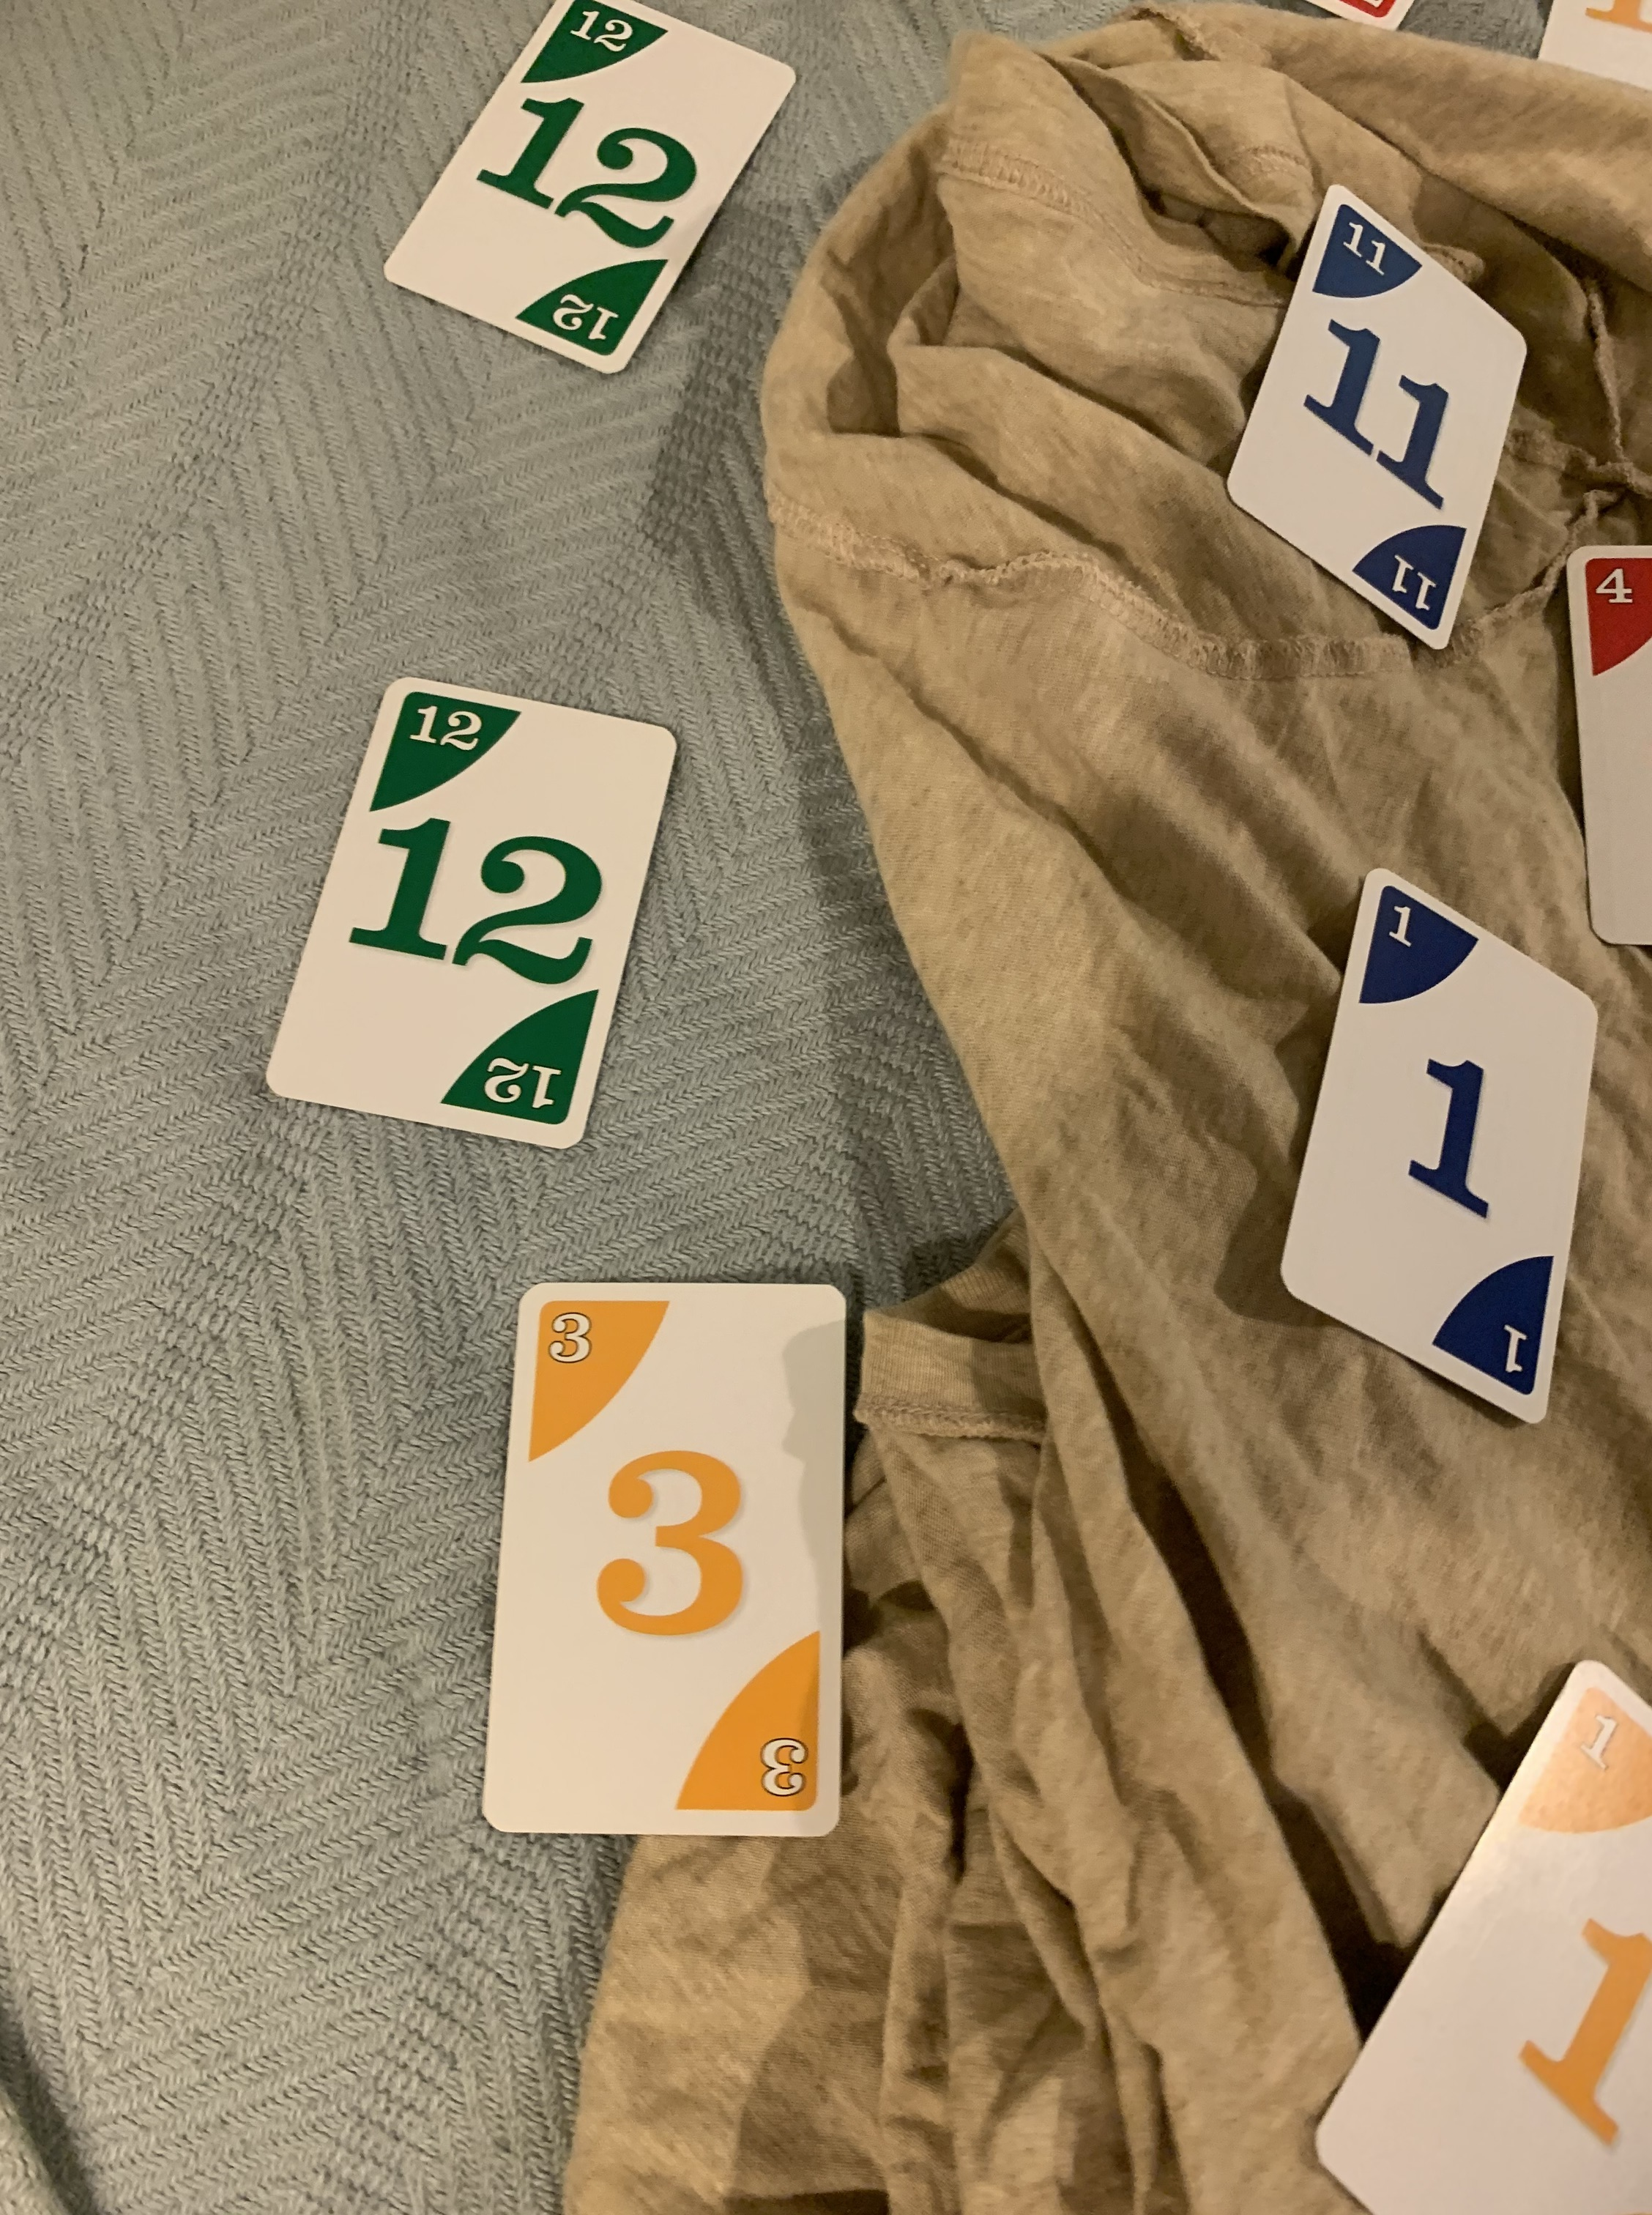eleven: (1208, 174, 1539, 665)
one: (1275, 861, 1600, 1446)
three: (460, 1274, 864, 1845)
twelve: (253, 674, 694, 1151), (364, 0, 810, 399)
